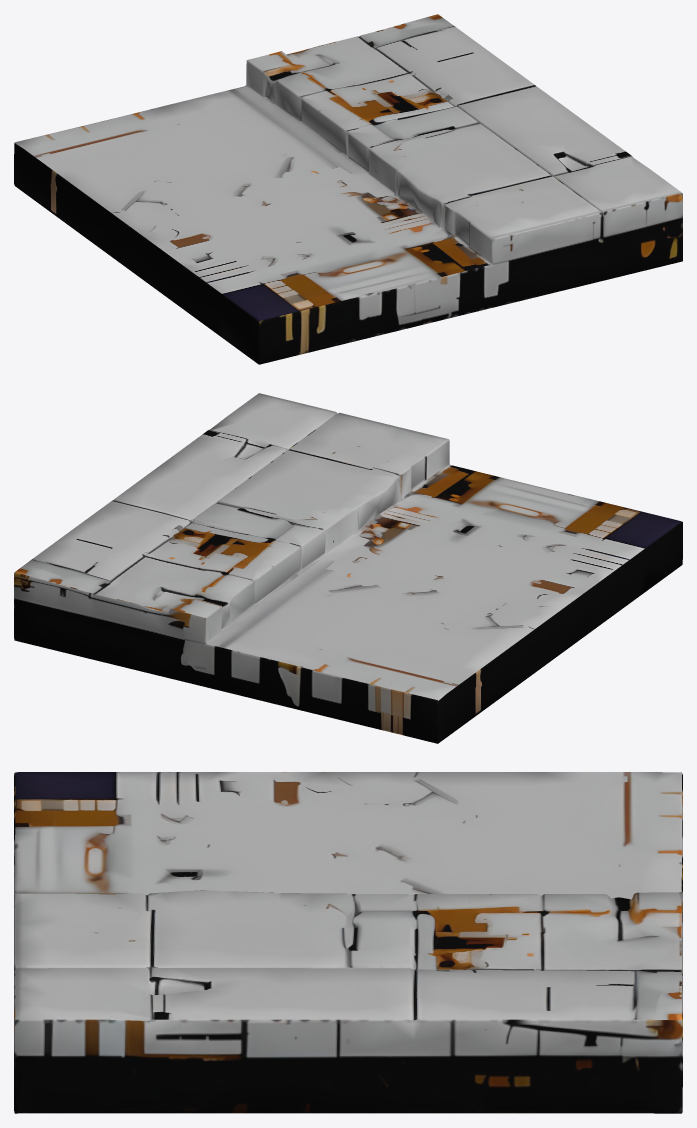
File: Low-Poly-Stylized-Road-Mafia-Game-Asset-Modular-Ge.glb
3 views of the same model, one above another, from view 1: azimuth 30°, elevation 25°; view 2: azimuth 150°, elevation 25°; view 3: azimuth 270°, elevation 25° (orthographic). The views are drawn at different scales.
Visible parts, largest first — view 1: world; view 2: world; view 3: world.
Boxes of the visible parts, <box> form: world: <box>14,14,682,364</box>; world: <box>14,393,682,743</box>; world: <box>14,772,682,1113</box>.
Bounding box in the file's own units: 1.99 × 0.312 × 1.99.
1 material, 1 textured.
